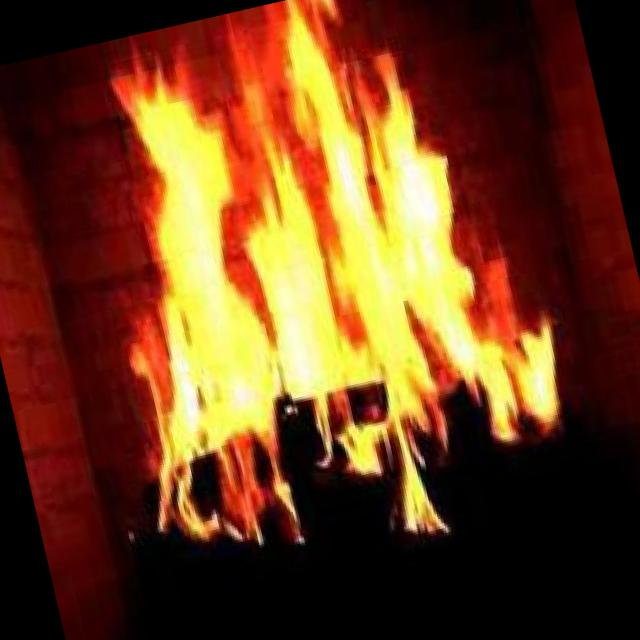Fire: (38, 0, 605, 609)
